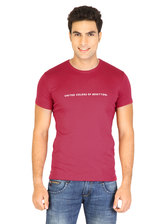clothoes: (34, 54, 137, 185)
